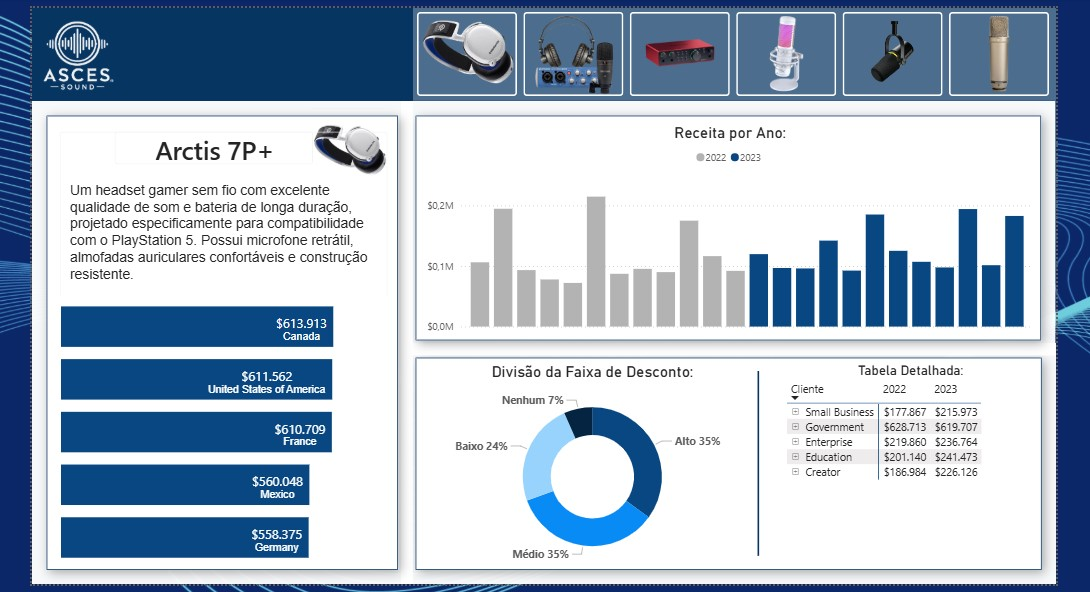

What the dashboard file says about the page in this screenshot:
{"tool":"powerbi","page":{"name":"Page 1","canvas":[1280,720],"ordinal":0},"visuals":[{"type":"shape","box":[0,0,1280,345.7],"z":0},{"type":"shape","box":[460.9,418.2,819.1,301.8],"z":500},{"type":"shape","box":[461.7,115.8,818.3,317.5],"z":1000},{"type":"shape","box":[0,115.7,475.7,604.3],"z":3000},{"type":"image","box":[0,0,105,115],"z":4000},{"type":"cardVisual","fields":{"Data":["Min(Query1.Product)"]},"box":[85.7,137.1,282.9,75.7],"z":5000},{"type":"cardVisual","fields":{"Data":["Min(Query1.Product)"]},"box":[331.1,0,130,250],"z":6000},{"type":"advancedSlicerVisual","fields":{"Values":["Query1.Image_url"]},"box":[475.7,0,804.3,115.7],"z":7000},{"type":"cardVisual","fields":{"Data":["Min(Query1.Description)"]},"box":[17.3,137.3,444.5,282.7],"z":8000},{"type":"clusteredBarChart","fields":{"Category":["Query1.Country"],"Y":["Sum(Query1.revenue)"]},"box":[31.4,360,418.6,334.3],"z":9000},{"type":"columnChart","title":"Receita por Ano:","fields":{"Y":["Sum(Query1.revenue)"],"Series":["Query1.year"],"Category":["Query1.Date.Variation.Date Hierarchy.Year","Query1.Date.Variation.Date Hierarchy.Quarter","Query1.Date.Variation.Date Hierarchy.Month","Query1.Date.Variation.Date Hierarchy.Day"]},"box":[489.4,145.2,767.6,267.3],"z":10000},{"type":"donutChart","title":"Divisão da Faixa de Desconto:","fields":{"Category":["Query1.Discount_Band"],"Y":["Sum(Query1.revenue)"]},"box":[503.3,443.3,393.3,262.2],"z":11000},{"type":"pivotTable","title":"Tabela Detalhada:","fields":{"Rows":["Query1.Customer_Type","Query1.Product"],"Columns":["Query1.year"],"Values":["Sum(Query1.revenue)"]},"box":[938.6,442.9,318.6,255.7],"z":12000},{"type":"shape","box":[896.7,453.3,23.3,231.1],"z":13000}]}

Visuals, with their boxes in screenshot pixels (x1, y1, x2, y2):
shape: x1=28, y1=3, x2=1068, y2=284
shape: x1=403, y1=343, x2=1068, y2=588
shape: x1=404, y1=97, x2=1068, y2=355
shape: x1=28, y1=97, x2=415, y2=588
image: x1=28, y1=3, x2=114, y2=96
cardVisual - Min(Query1.Product): x1=98, y1=114, x2=328, y2=176
cardVisual - Min(Query1.Product): x1=297, y1=3, x2=403, y2=206
advancedSlicerVisual - Query1.Image_url: x1=415, y1=3, x2=1068, y2=97
cardVisual - Min(Query1.Description): x1=42, y1=114, x2=404, y2=344
clusteredBarChart - Query1.Country x Sum(Query1.revenue): x1=54, y1=295, x2=394, y2=567
"Receita por Ano:" columnChart: x1=426, y1=121, x2=1050, y2=338
"Divisão da Faixa de Desconto:" donutChart: x1=437, y1=363, x2=757, y2=576
"Tabela Detalhada:" pivotTable: x1=791, y1=363, x2=1050, y2=571
shape: x1=757, y1=371, x2=776, y2=559
